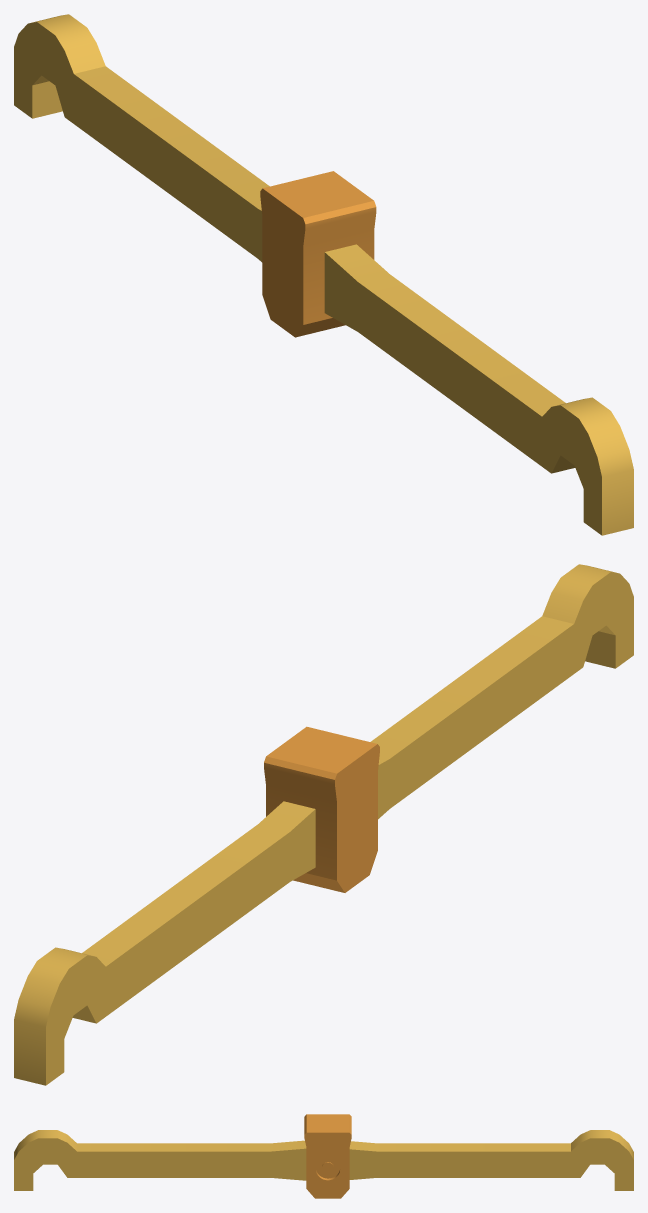
Rendered from ScaleBar.fbx.
3 renders of one model, top to bottom at view 1: azimuth 30°, elevation 25°; view 2: azimuth 150°, elevation 25°; view 3: azimuth 270°, elevation 25°, orthographic. The views are drawn at different scales.
Parts seen in each view (by area): view 1: BézierCurve.039, BézierCurve.040, Cube; view 2: BézierCurve.040, BézierCurve.039, Cube; view 3: BézierCurve.039, BézierCurve.040, Cube.
Boxes of the visible parts, bbox=[...] form: BézierCurve.039: bbox=[324, 244, 633, 535]; BézierCurve.040: bbox=[14, 14, 269, 262]; Cube: bbox=[260, 171, 376, 337]; BézierCurve.040: bbox=[14, 801, 315, 1085]; BézierCurve.039: bbox=[370, 564, 633, 819]; Cube: bbox=[264, 726, 379, 892]; BézierCurve.039: bbox=[14, 1130, 306, 1190]; BézierCurve.040: bbox=[349, 1130, 633, 1190]; Cube: bbox=[304, 1114, 351, 1198].
Bounding box in the file's own units: 40.06 × 67.56 × 574.
